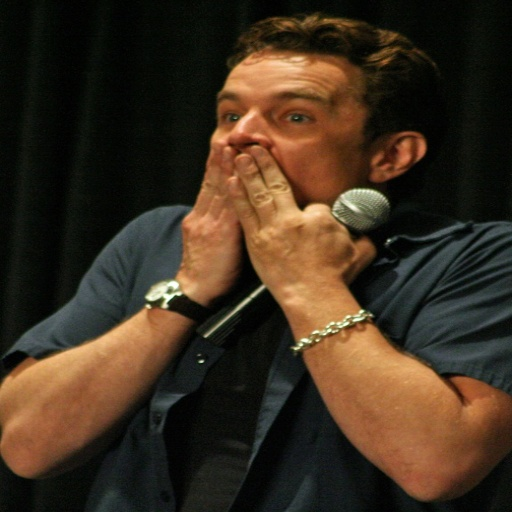hand: (218, 157, 397, 383), (176, 138, 241, 293)
